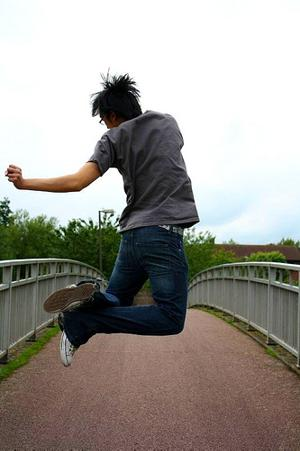person: (8, 75, 200, 368)
